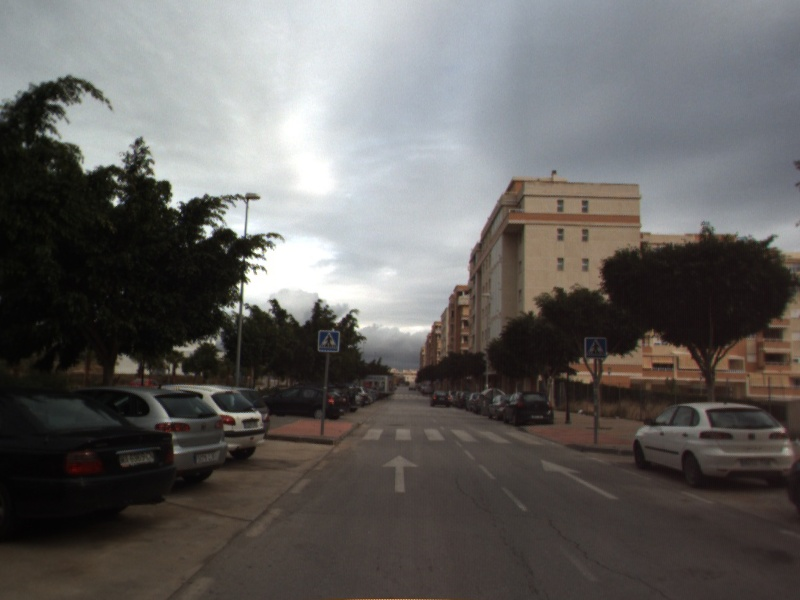STRAIGHT: (539, 458, 621, 501), (380, 453, 420, 494)
